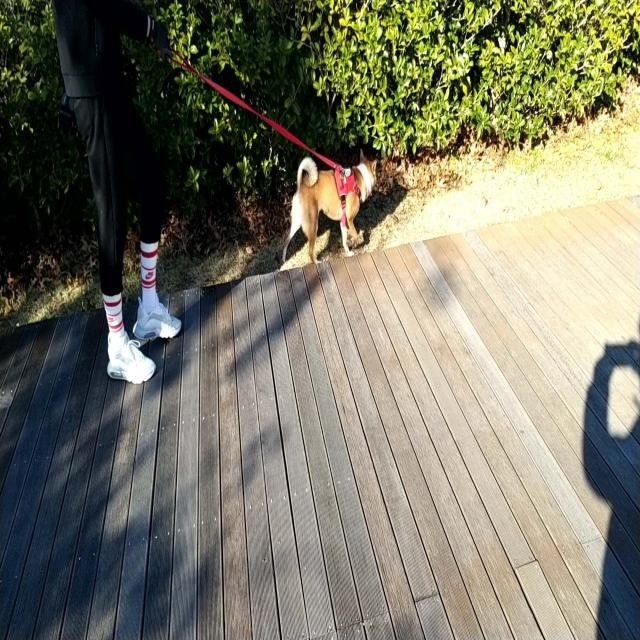Leashed_Dog: (98, 0, 377, 264)
